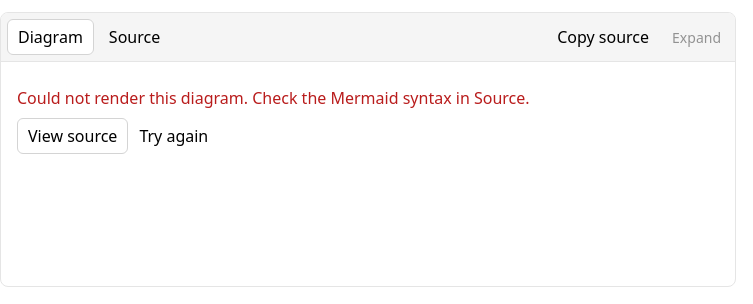
Test: Mermaid Markdown › shows an explicit failure and keeps the source readable
Expected: the message shows "Could not render", 17,87 -> 530,109
Click the button "View source": {"x": 73, "y": 136} 17,118 -> 128,154
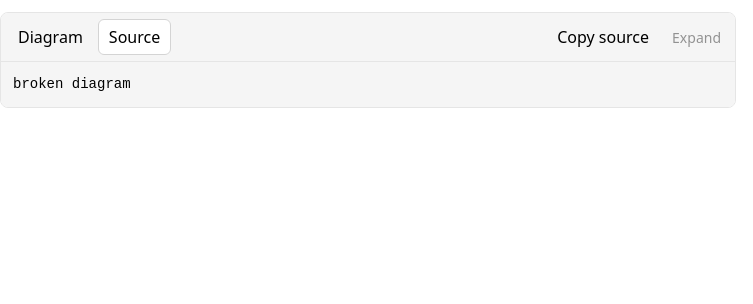
Expected: the text "broken diagram" is shown, 13,76 -> 131,92
